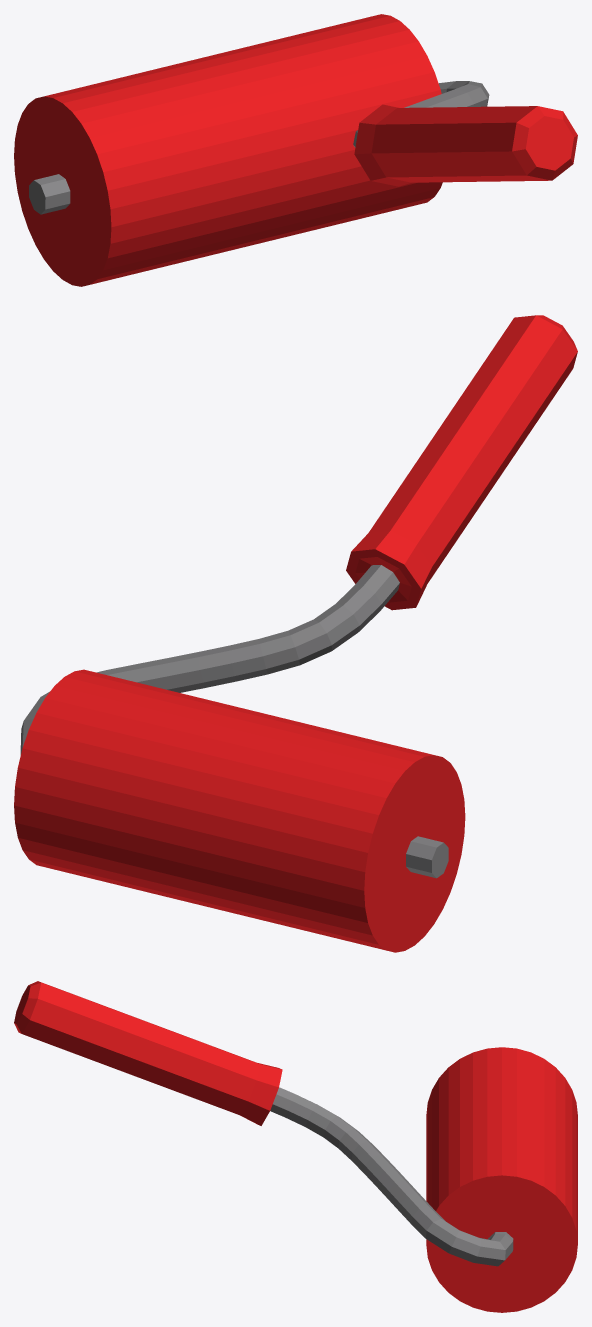
Rendered from Roller.glb.
The picture shows the model from 3 angles, top to bottom: view 1: azimuth 30°, elevation 25°; view 2: azimuth 150°, elevation 25°; view 3: azimuth 270°, elevation 25°; orthographic projection. The views are drawn at different scales.
Visible parts, largest first — view 1: Roller, Rode; view 2: Roller, Rode; view 3: Roller, Rode.
Boxes of the visible parts, left/top/right/bottom form: Roller: left=14, top=14, right=577, bottom=286; Rode: left=29, top=81, right=489, bottom=214; Roller: left=14, top=315, right=577, bottom=952; Rode: left=20, top=565, right=448, bottom=878; Roller: left=14, top=981, right=577, bottom=1312; Rode: left=270, top=1087, right=513, bottom=1266.
Bounding box in the file's own units: 0.1407 × 0.111 × 0.21.
